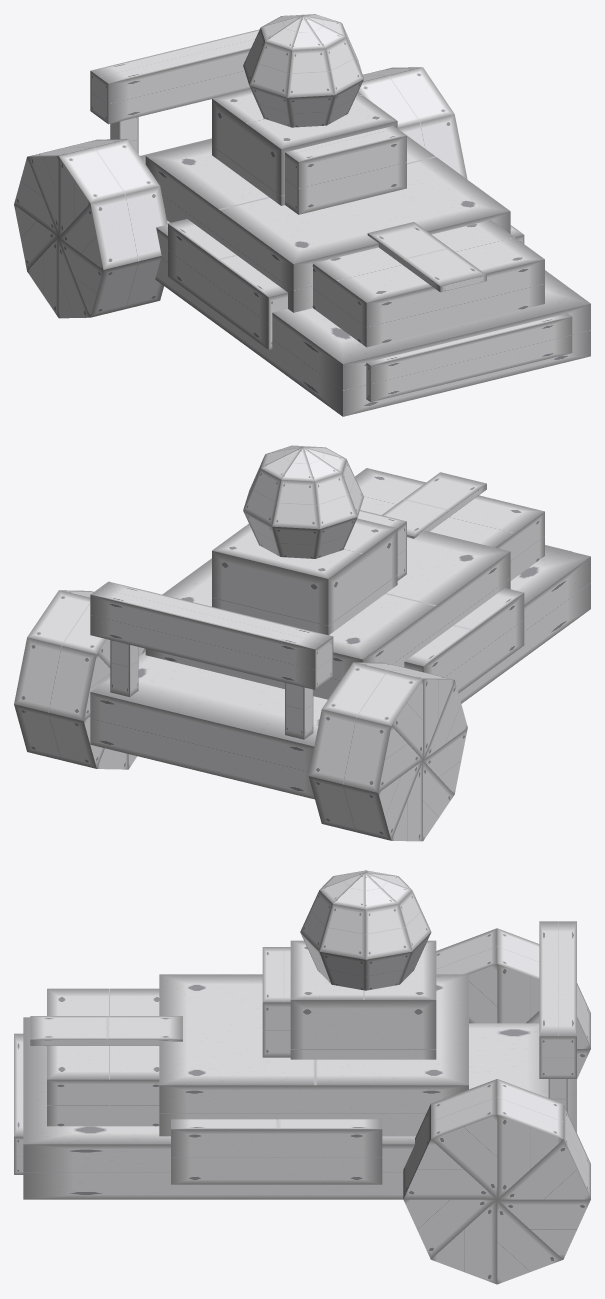
The model's file is kart.obj.
The picture shows the model from 3 angles, top to bottom: view 1: azimuth 30°, elevation 25°; view 2: azimuth 150°, elevation 25°; view 3: azimuth 270°, elevation 25°; orthographic projection. The views are drawn at different scales.
Bounding box in the file's own units: 1.88 × 1.5 × 2.46.
Materials: 6 (6 with a texture image).
